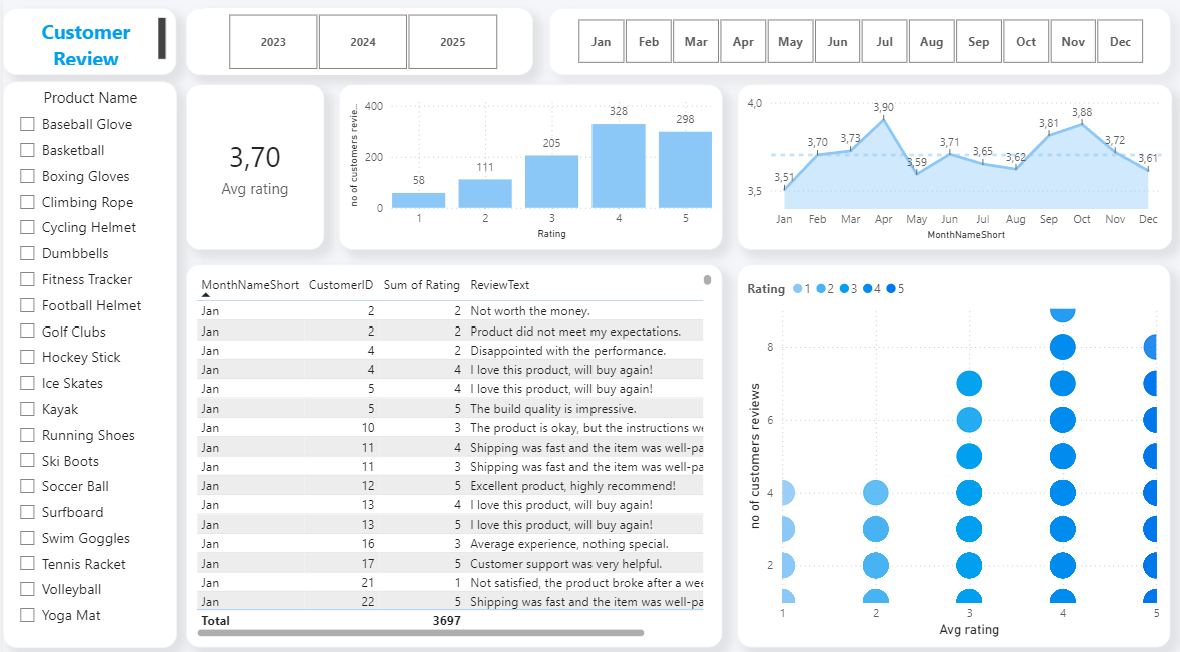

Layout of this report page (visuals, bound fields, positions):
{"tool":"powerbi","page":{"name":"Customers Reviews","canvas":[1280,720],"ordinal":3},"visuals":[{"type":"textbox","box":[0,13.2,188.1,72.9],"z":0},{"type":"slicer","title":"Product Name","fields":{"Values":["DIM_Products.ProductName"]},"box":[0,92.8,188.4,614.1],"z":1000},{"type":"textbox","box":[199,13.3,376.7,73],"z":2000},{"type":"slicer","fields":{"Values":["Calendar.Date.Variation.Date Hierarchy.Year"]},"box":[219.9,13.2,340.4,72.9],"z":3000},{"type":"slicer","fields":{"Values":["Calendar.MonthNameShort"]},"box":[592.9,13.3,673.8,73],"z":4000},{"type":"card","fields":{"Values":["Measures (3).Avg rating"]},"box":[199.2,96.3,150.2,179.6],"z":5000},{"type":"lineChart","fields":{"Y":["Measures (3).Avg rating"],"Category":["Calendar.MonthNameShort"]},"box":[796.7,96.3,471.8,179.6],"z":6000},{"type":"clusteredColumnChart","fields":{"Y":["Measures (3).no of customers reviews"],"Category":["FACT_reviews.Rating"]},"box":[364.9,96.1,415.4,179.2],"z":7000},{"type":"tableEx","fields":{"Values":["Calendar.MonthNameShort","FACT_reviews.CustomerID","Sum(FACT_reviews.Rating)","FACT_reviews.ReviewText"]},"box":[199.2,292.2,581.2,414.7],"z":9000},{"type":"scatterChart","fields":{"X":["Measures (3).Avg rating"],"Y":["Measures (3).no of customers reviews"],"Category":["DIM_Customers.CustomerID"],"Series":["FACT_reviews.Rating"]},"box":[796.7,292.2,470.2,414.7],"z":10000}]}

Visuals, with their boxes in screenshot pixels (x1, y1, x2, y2), scaled from the page's 1280x720 canvas onto the 1180x652 screenshot:
textbox: x1=0 y1=12 x2=173 y2=78
"Product Name" slicer: x1=0 y1=84 x2=174 y2=640
textbox: x1=183 y1=12 x2=531 y2=78
slicer - Calendar.Date.Variation.Date Hierarchy.Year: x1=203 y1=12 x2=517 y2=78
slicer - Calendar.MonthNameShort: x1=547 y1=12 x2=1168 y2=78
card - Measures (3).Avg rating: x1=184 y1=87 x2=322 y2=250
lineChart - Measures (3).Avg rating x Calendar.MonthNameShort: x1=734 y1=87 x2=1169 y2=250
clusteredColumnChart - Measures (3).no of customers reviews x FACT_reviews.Rating: x1=336 y1=87 x2=719 y2=249
tableEx - Calendar.MonthNameShort x FACT_reviews.CustomerID: x1=184 y1=265 x2=719 y2=640
scatterChart - Measures (3).Avg rating x Measures (3).no of customers reviews: x1=734 y1=265 x2=1168 y2=640
